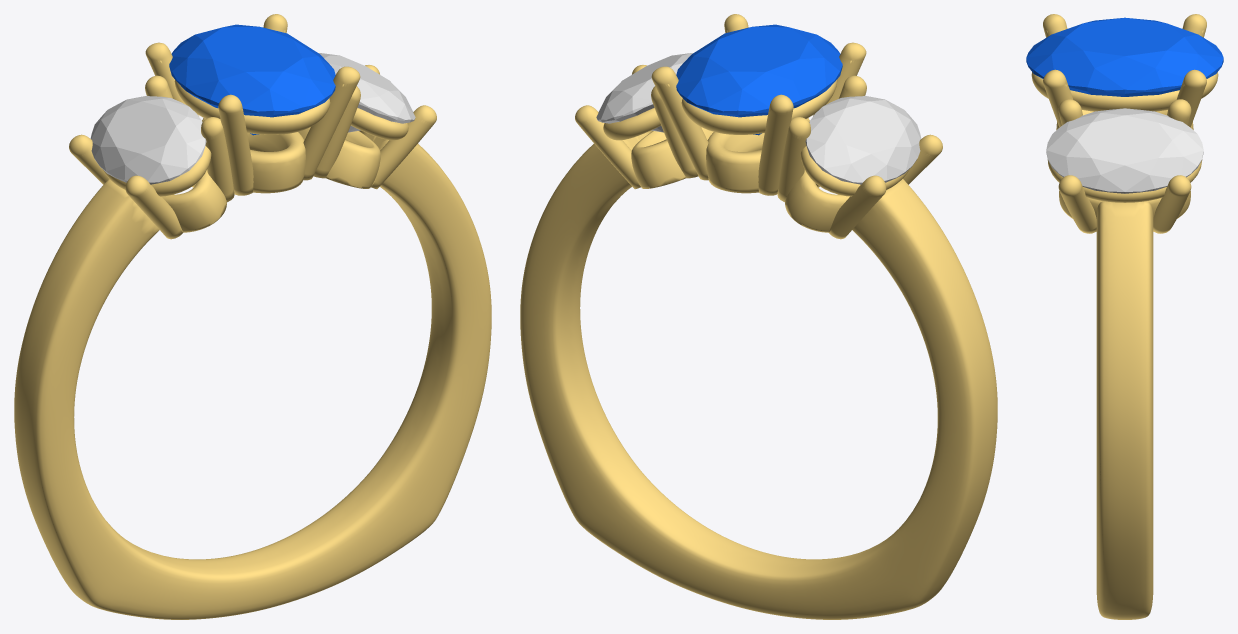
The model's file is bluesapphire-oval-yellowgold-4prong-europeanshank-3stone.glb.
3 renders of one model, left to right at view 1: azimuth 30°, elevation 25°; view 2: azimuth 150°, elevation 25°; view 3: azimuth 270°, elevation 25°, orthographic.
Parts seen in each view (by area): view 1: metal, stone, side.001, side; view 2: metal, stone, side.001, side; view 3: metal, stone, side.
Part boxes in pixels (bbox=[...]): metal: bbox=[14, 14, 491, 619]; stone: bbox=[169, 24, 335, 135]; side.001: bbox=[90, 96, 206, 184]; side: bbox=[318, 53, 415, 132]; metal: bbox=[520, 14, 997, 619]; stone: bbox=[676, 24, 842, 135]; side.001: bbox=[805, 96, 921, 184]; side: bbox=[596, 53, 693, 132]; metal: bbox=[1031, 14, 1218, 619]; stone: bbox=[1026, 17, 1223, 96]; side: bbox=[1046, 108, 1203, 193].
Size of the model in its own units: 20.1 by 23.21 by 7.64.
